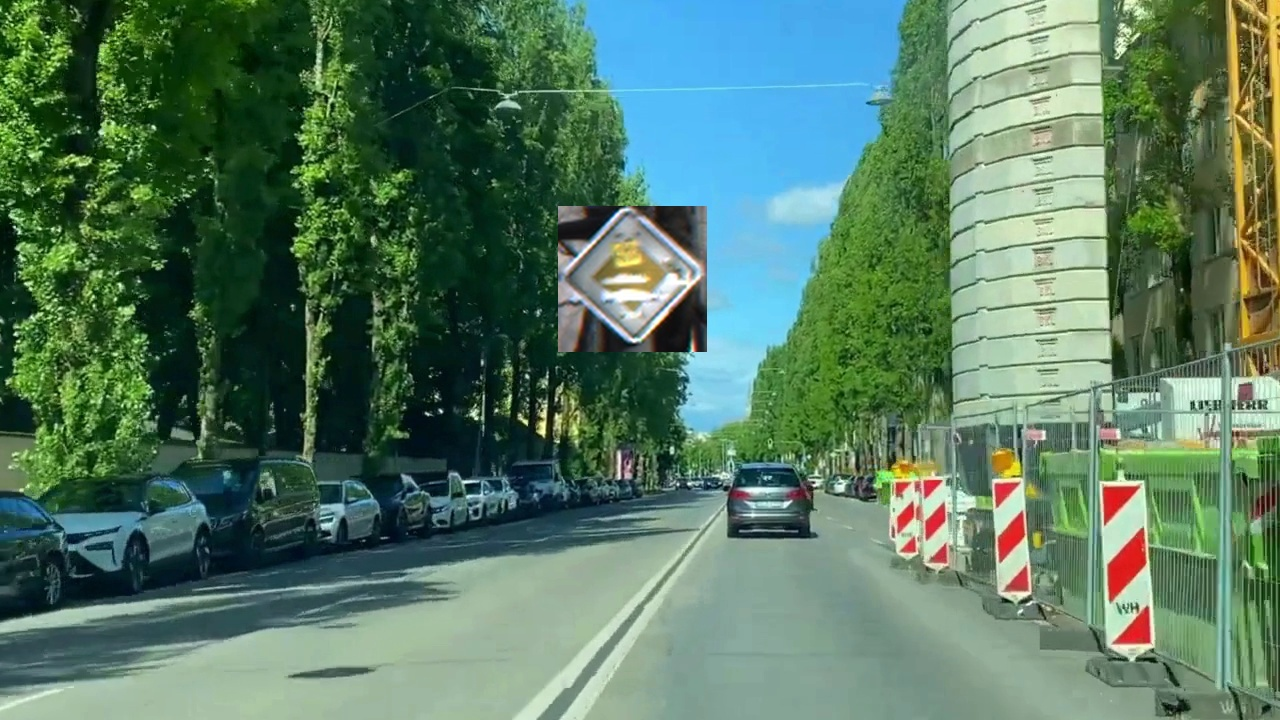Priority road: (558, 206, 707, 352)
